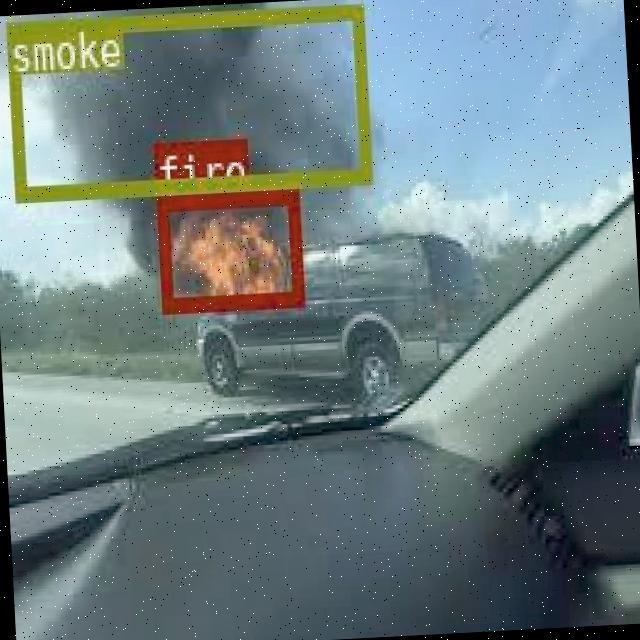fire: (156, 186, 302, 312)
smoke: (6, 4, 370, 200)
